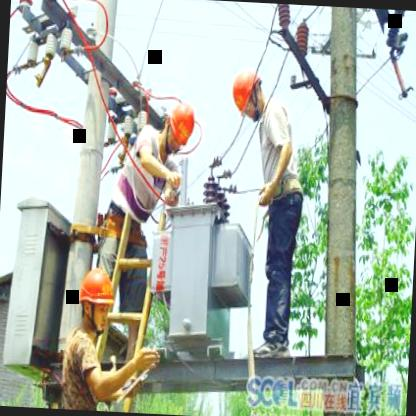helmet: (76, 262, 116, 338), (162, 96, 203, 154), (228, 68, 264, 121)
